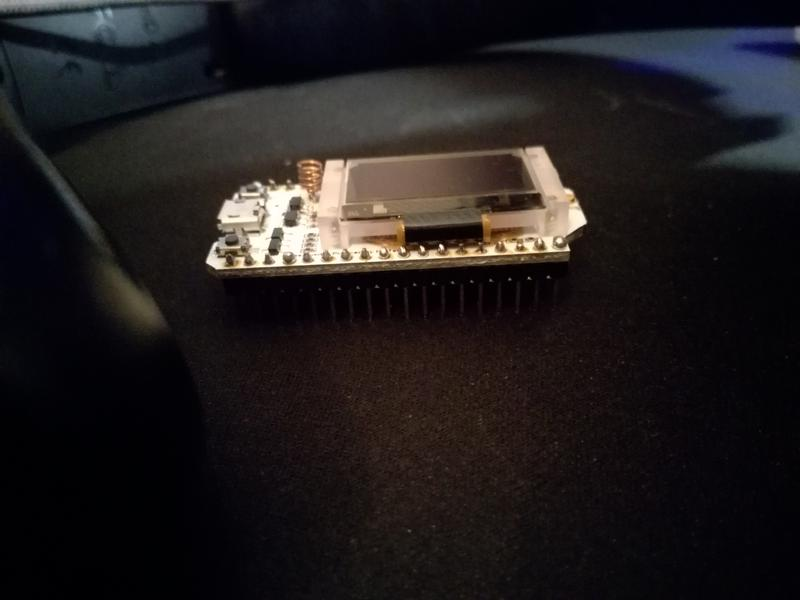Heltec_ESP32_Lora: (196, 133, 604, 325)
